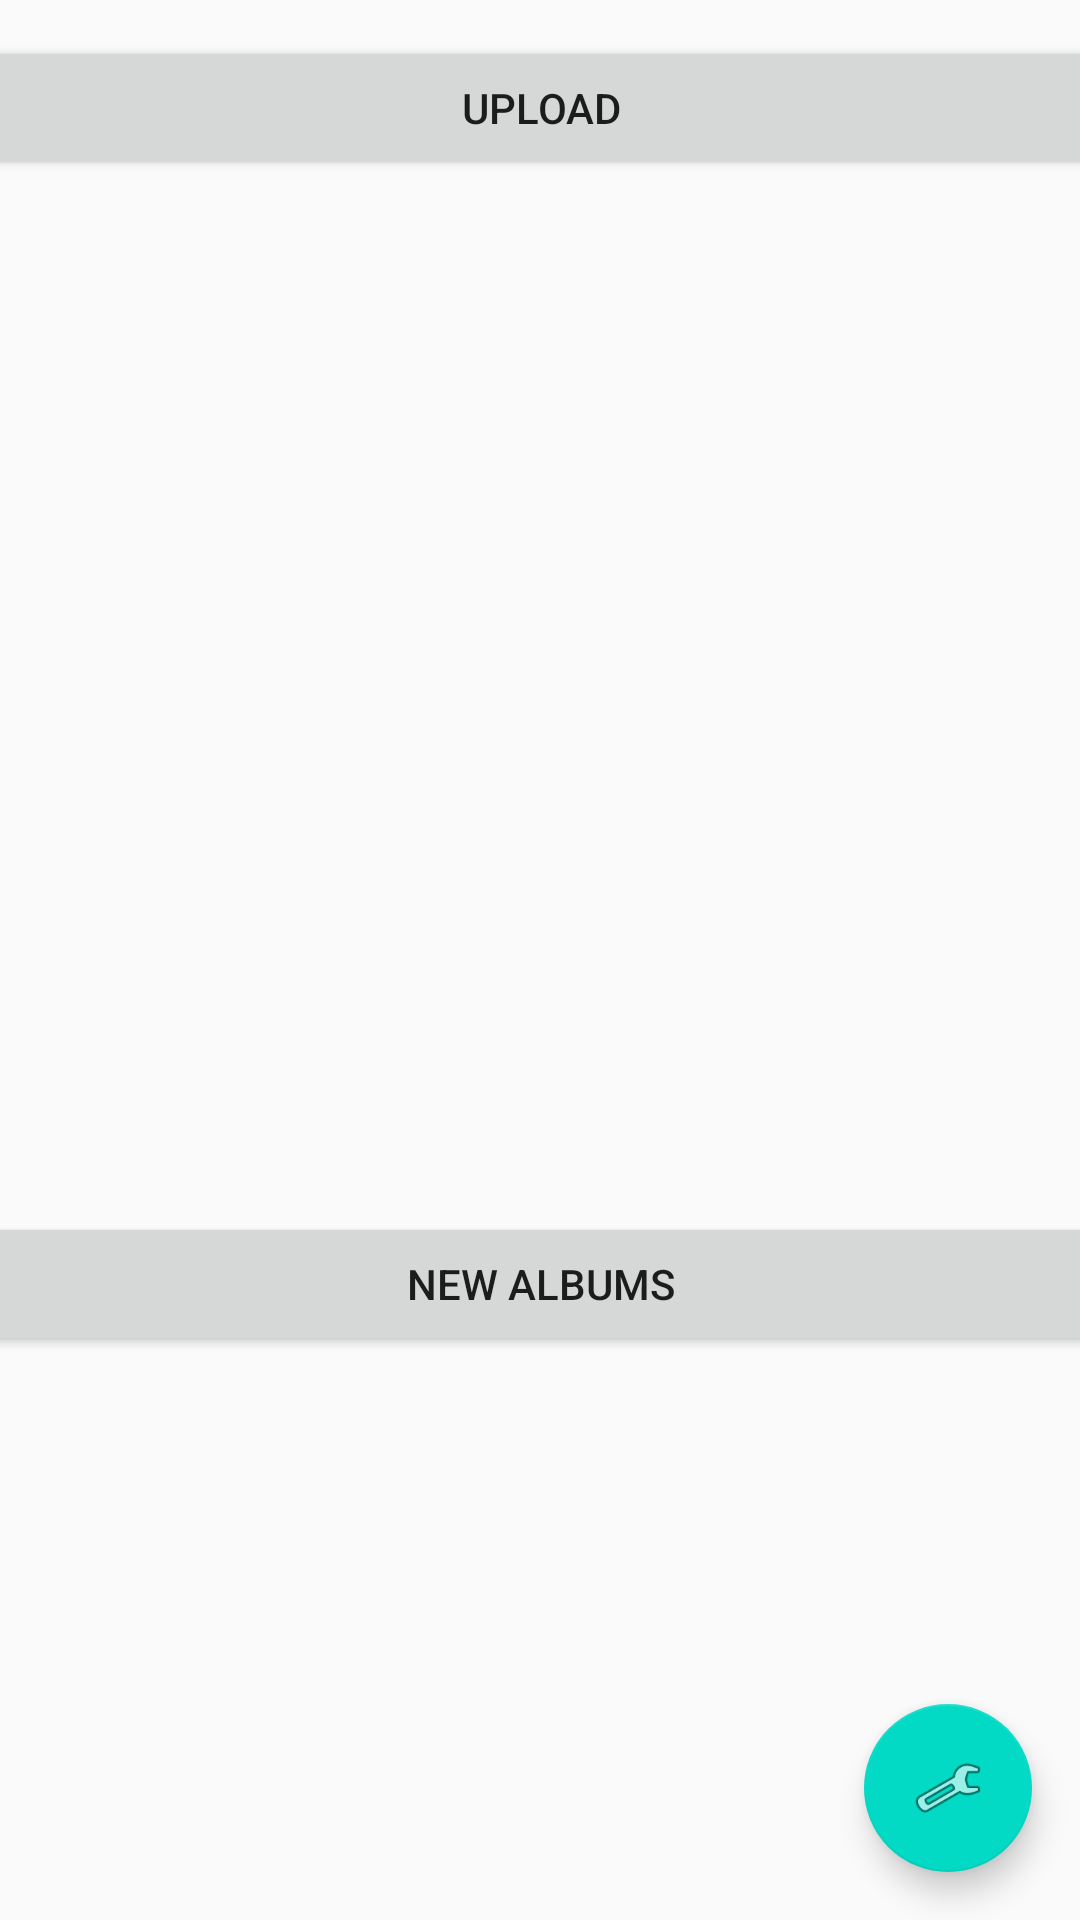

Named icons in this screenshot (1080×1920) and their centers, (x,y):
Settings: (948,1788)
